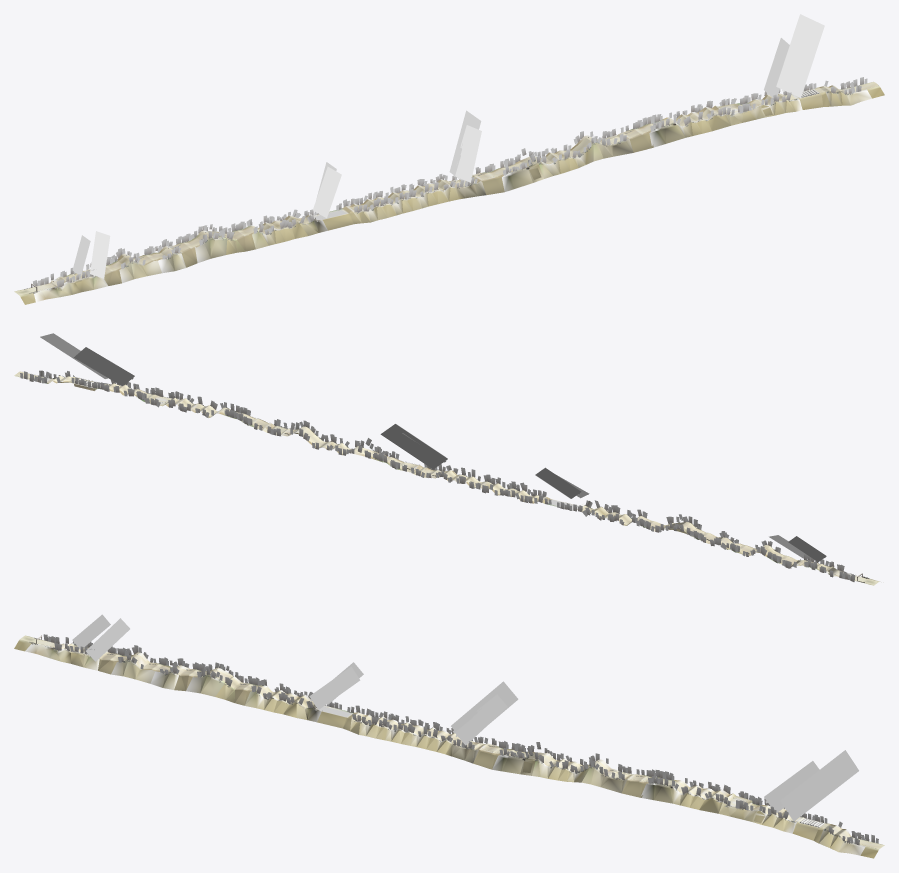
The model's file is Beach_07.fbx.
The picture shows the model from 3 angles, top to bottom: view 1: azimuth 30°, elevation 25°; view 2: azimuth 150°, elevation 25°; view 3: azimuth 330°, elevation 25°; orthographic projection.
Visible parts, largest first — view 1: Mountain_01, Tree_01, Light_01, Road_01, Ground_01; view 2: Tree_01, Light_01, Ground_01, Road_01; view 3: Mountain_01, Tree_01, Light_01, Road_01, Ground_01.
Boxes of the visible parts, x1,y1,x2,y2 form: Mountain_01: (34,89,871,302); Tree_01: (33,77,867,293); Light_01: (72,14,824,278); Road_01: (14,82,884,304); Ground_01: (15,82,878,295); Tree_01: (20,370,867,581); Light_01: (40,333,826,561); Ground_01: (15,371,878,585); Road_01: (14,373,879,585); Mountain_01: (25,643,865,855); Tree_01: (31,634,878,845); Light_01: (72,614,858,821); Road_01: (14,635,884,858); Ground_01: (20,636,883,848).
Size of the model in its own units: 119604 by 10354 by 7115.
